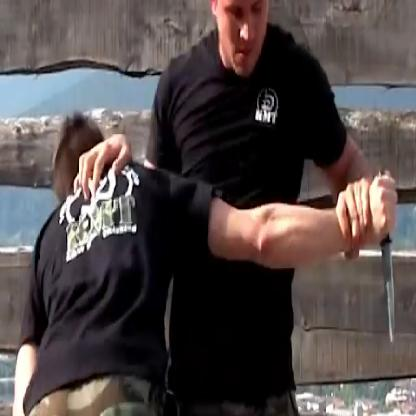knife: (369, 161, 401, 351)
